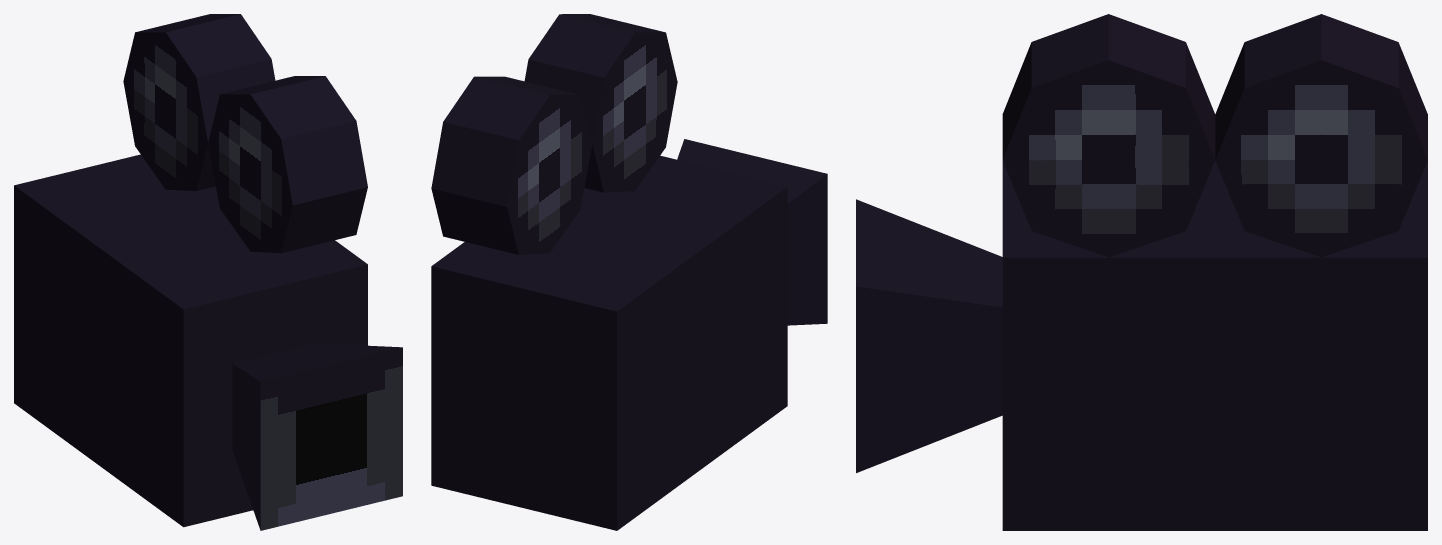
File: Camera.obj
3 renders of one model, left to right at view 1: azimuth 30°, elevation 25°; view 2: azimuth 150°, elevation 25°; view 3: azimuth 270°, elevation 25°, orthographic. The views are drawn at different scales.
Parts seen in each view (by area): view 1: Camera; view 2: Camera; view 3: Camera.
Part boxes in pixels (box(x1,y1,x2,y2)): Camera: box(14, 14, 402, 530); Camera: box(431, 14, 827, 530); Camera: box(856, 14, 1427, 530).
Size of the model in its own units: 1.04 by 2.02 by 2.23.
1 material, 1 textured.
